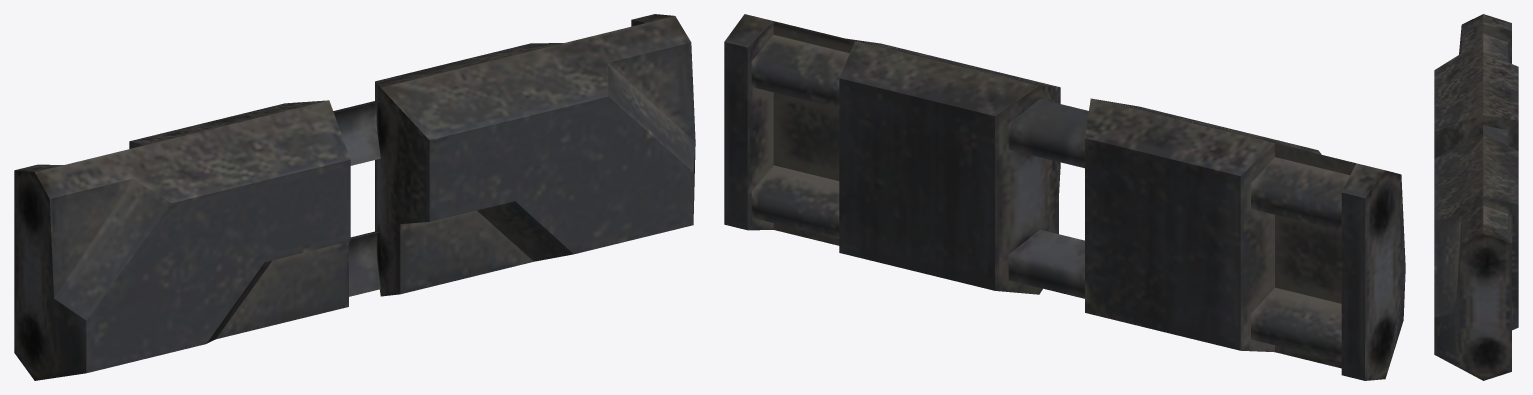
The picture shows the model from 3 angles, left to right: view 1: azimuth 30°, elevation 25°; view 2: azimuth 150°, elevation 25°; view 3: azimuth 270°, elevation 25°; orthographic projection. The views are drawn at different scales.
Parts seen in each view (by area): view 1: set_0_group_0; view 2: set_0_group_0; view 3: set_0_group_0.
Part boxes in pixels (x1=…): set_0_group_0: x1=14, y1=14, x2=695, y2=380; set_0_group_0: x1=724, y1=14, x2=1405, y2=380; set_0_group_0: x1=1434, y1=14, x2=1518, y2=380.
Bounding box in the file's own units: 0.4682 × 0.1456 × 0.0759.
Materials: 1 (1 with a texture image).
